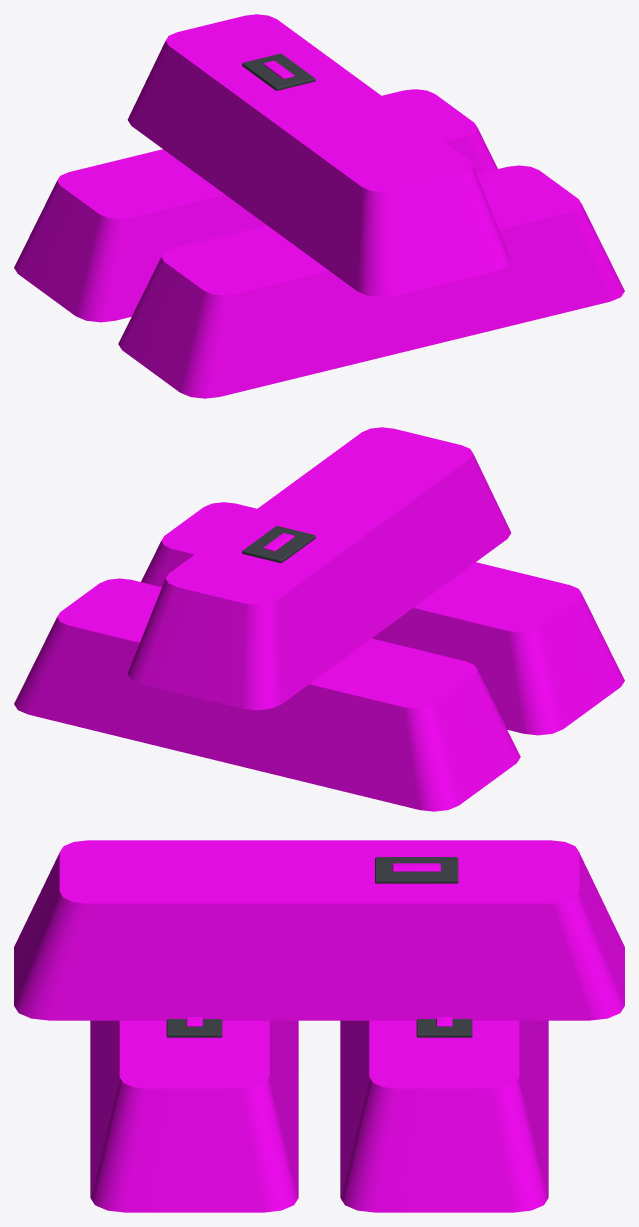
Rendered from objet_lingot_alu.glb.
3 renders of one model, top to bottom at view 1: azimuth 30°, elevation 25°; view 2: azimuth 150°, elevation 25°; view 3: azimuth 270°, elevation 25°, orthographic. The views are drawn at different scales.
Visible parts, largest first — view 1: lingots_teinte.004, lingots_teinte_sombre.004; view 2: lingots_teinte.004, lingots_teinte_sombre.004; view 3: lingots_teinte.004, lingots_teinte_sombre.004.
Part boxes in pixels (<box>): lingots_teinte.004: <box>14,14,624,398</box>; lingots_teinte_sombre.004: <box>242,53,315,90</box>; lingots_teinte.004: <box>14,427,624,811</box>; lingots_teinte_sombre.004: <box>242,526,315,562</box>; lingots_teinte.004: <box>14,840,624,1212</box>; lingots_teinte_sombre.004: <box>166,857,472,1037</box>.
Size of the model in its own units: 0.22 by 0.0862 by 0.22.
